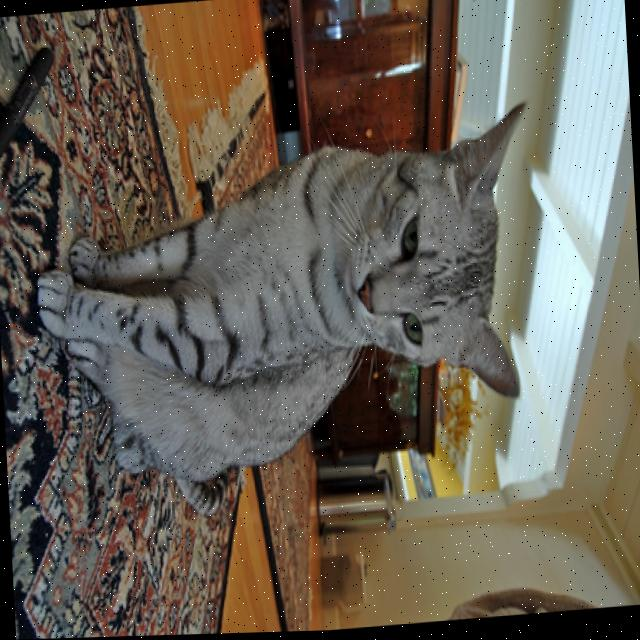Egyptian Mau: (23, 99, 549, 531)
